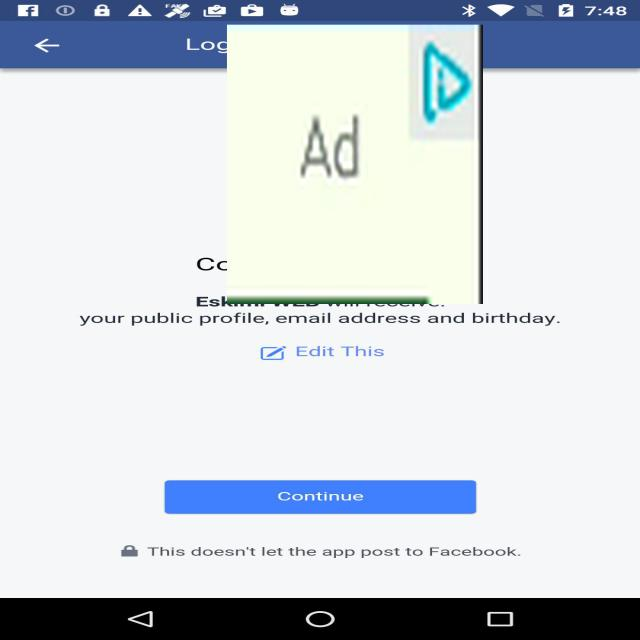sneaking: (227, 25, 483, 304)
